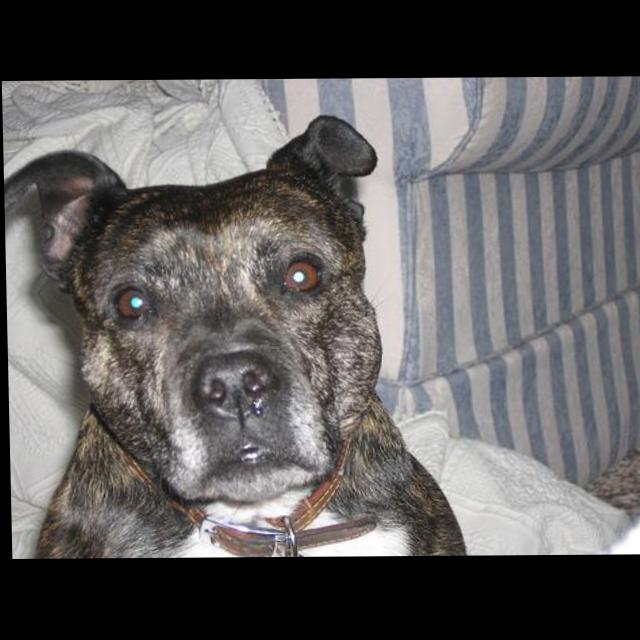staffford: (3, 113, 480, 560)
